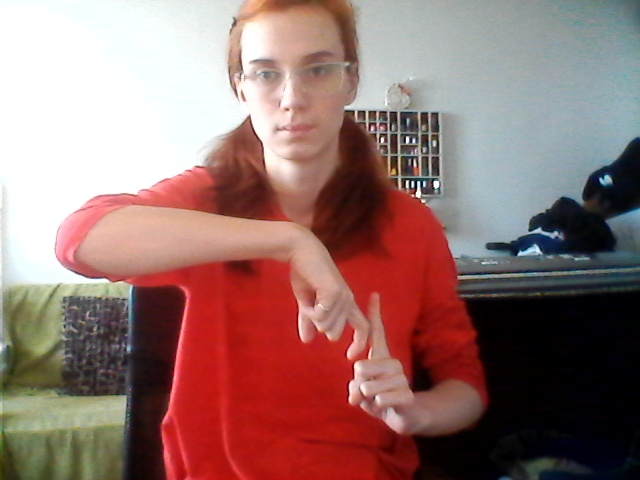k: (265, 217, 420, 439)
